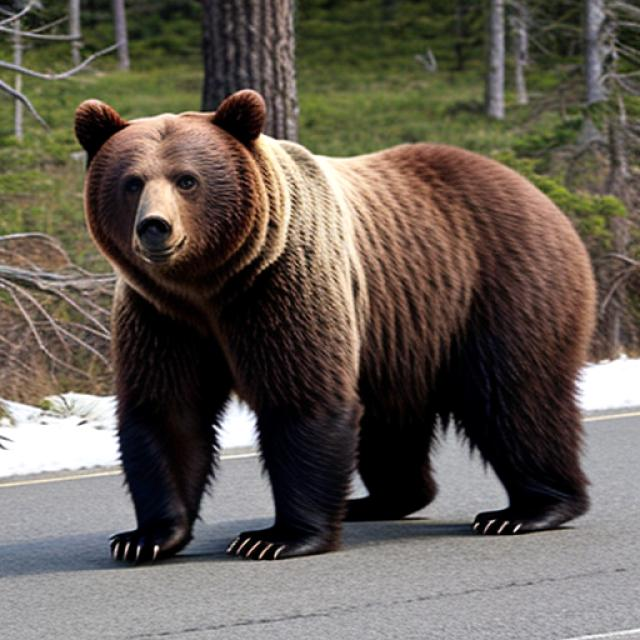bear: (54, 80, 302, 310)
